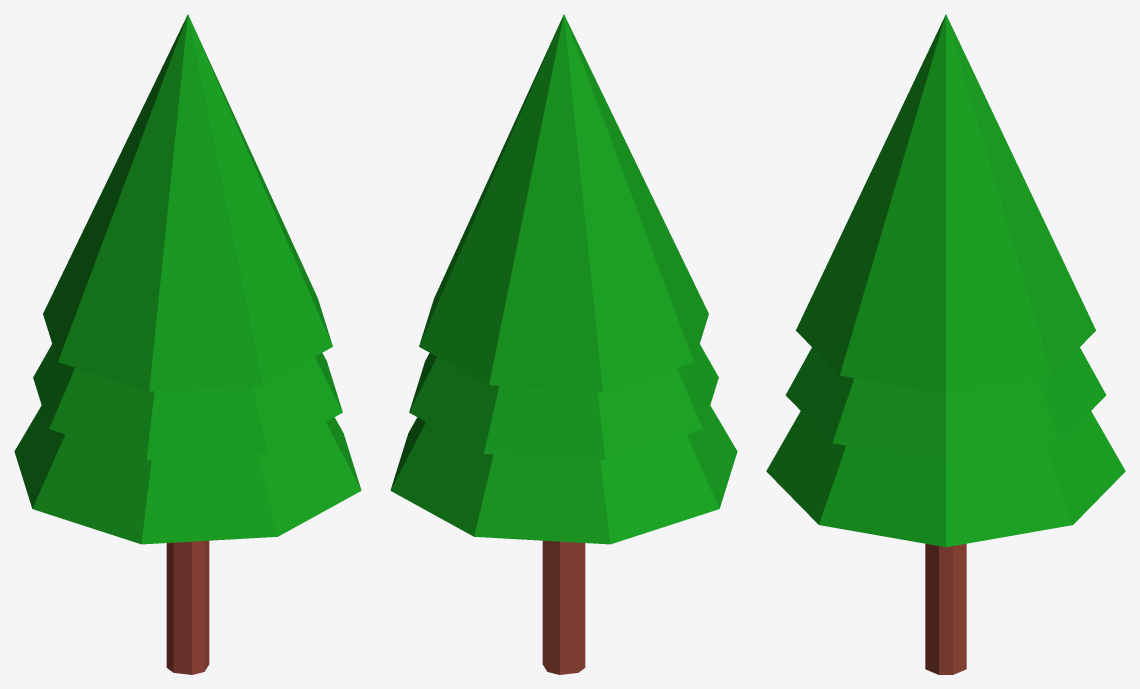
Rendered from pine tree 2.fbx.
The picture shows the model from 3 angles, left to right: view 1: azimuth 30°, elevation 25°; view 2: azimuth 150°, elevation 25°; view 3: azimuth 270°, elevation 25°; orthographic projection.
Visible parts, largest first — view 1: Cone.004, Cone.002, Cone.003, Cube.003; view 2: Cone.004, Cone.002, Cone.003, Cube.003; view 3: Cone.004, Cone.002, Cone.003, Cube.003.
Part boxes in pixels (x1,y1,x2,y2): Cone.004: (43, 14, 332, 391); Cone.002: (14, 405, 361, 544); Cone.003: (33, 344, 342, 460); Cube.003: (166, 540, 209, 674); Cone.004: (419, 14, 708, 391); Cone.002: (390, 405, 737, 544); Cone.003: (409, 344, 718, 460); Cube.003: (542, 540, 585, 674); Cone.004: (796, 14, 1095, 393); Cone.002: (766, 411, 1125, 547); Cone.003: (785, 347, 1106, 462); Cube.003: (925, 543, 966, 674).
Size of the model in its own units: 445 by 890 by 445.
